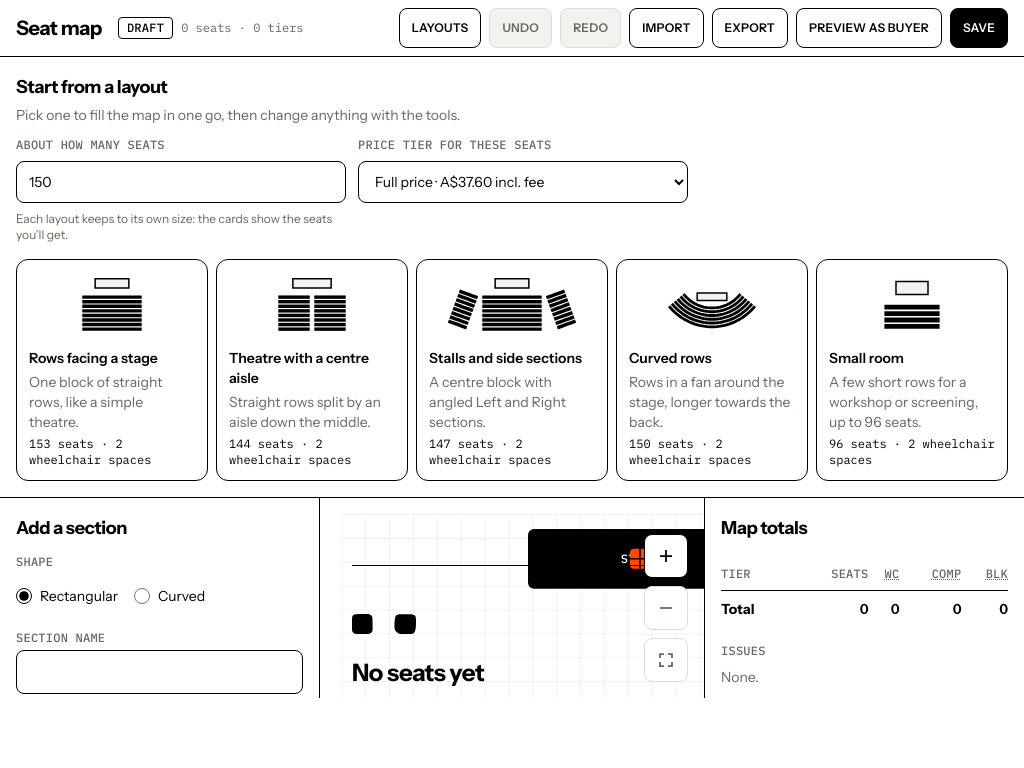
Test: Start from a layout (seat-map editor, §5.13) › a number it can't read: says so, and leaves the map alone
Clear the field labelled "About how many seats" at (181, 182), box 16,161 -> 346,203
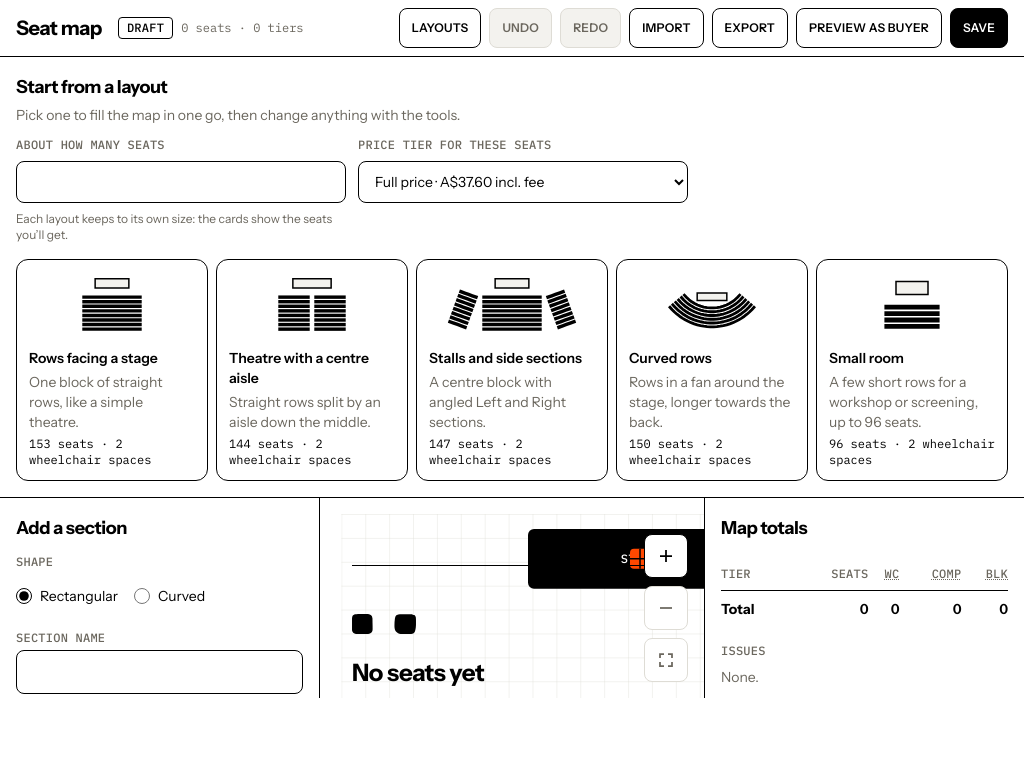
Click the button "Rows facing a stage" at (112, 370), box 16,259 -> 208,481
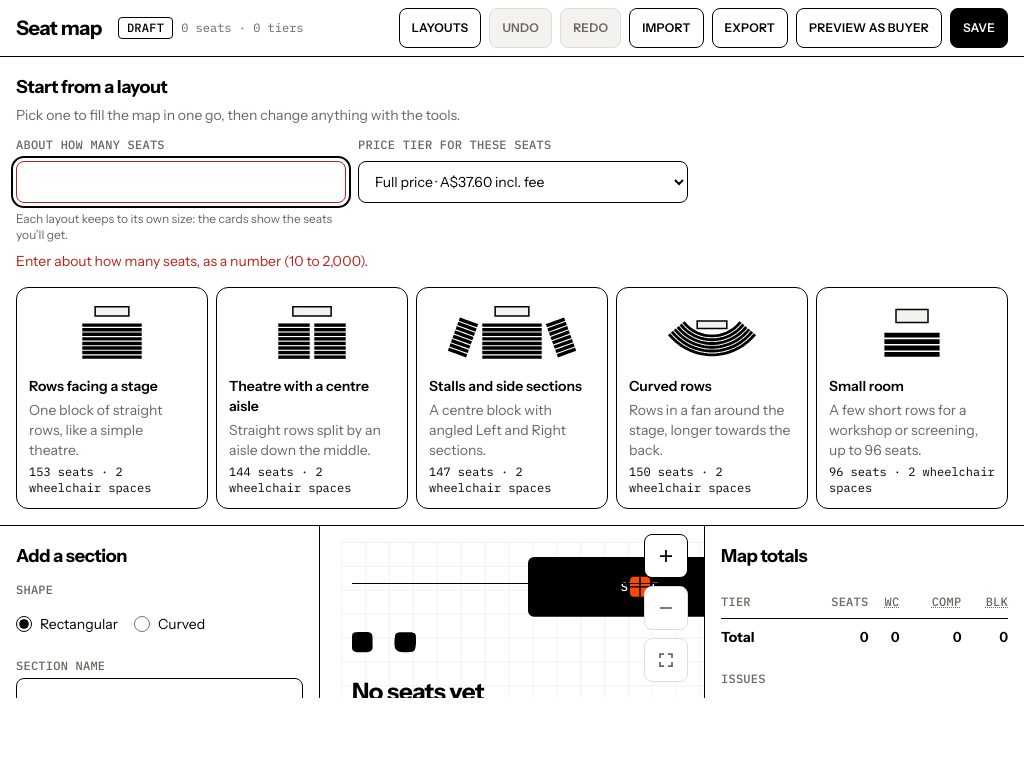
Expected: the text "0 seats · 0 tiers" is shown, 181,20 -> 304,36
Result: the message reads "Enter about how many seats, as a number (10 to 2,000)." at 16,252 -> 368,270
Type "1,000,000" into the field labelled "About how many seats" at (181, 182), box 16,161 -> 346,203
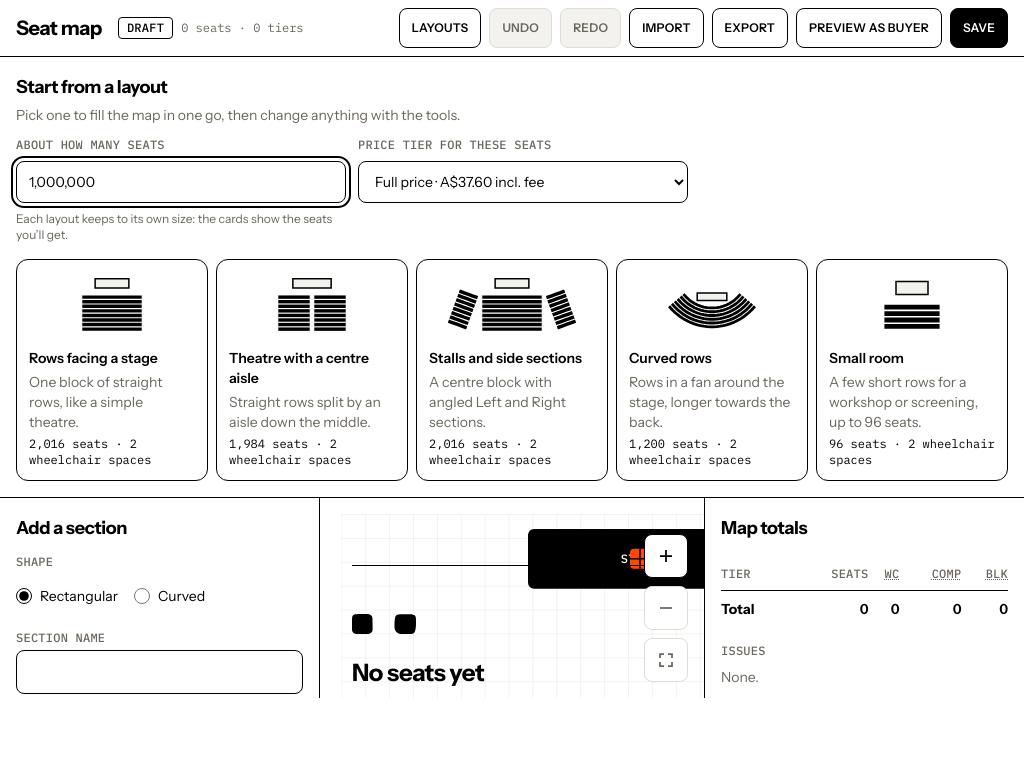
Result: the message "Enter about how many seats, as a number (10 to 2,000)." is gone
Click the button "Theatre with a centre aisle" at (312, 370), box 216,259 -> 408,481
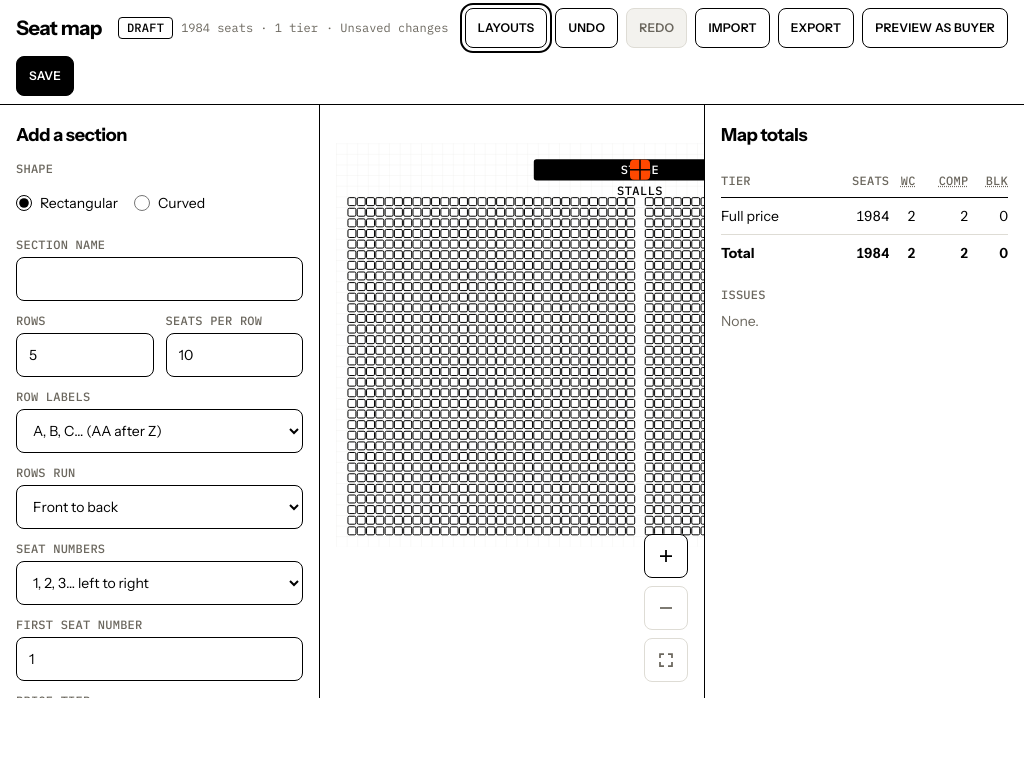
Result: the text "1984 seats · 1 tier" is shown at 181,20 -> 318,36
